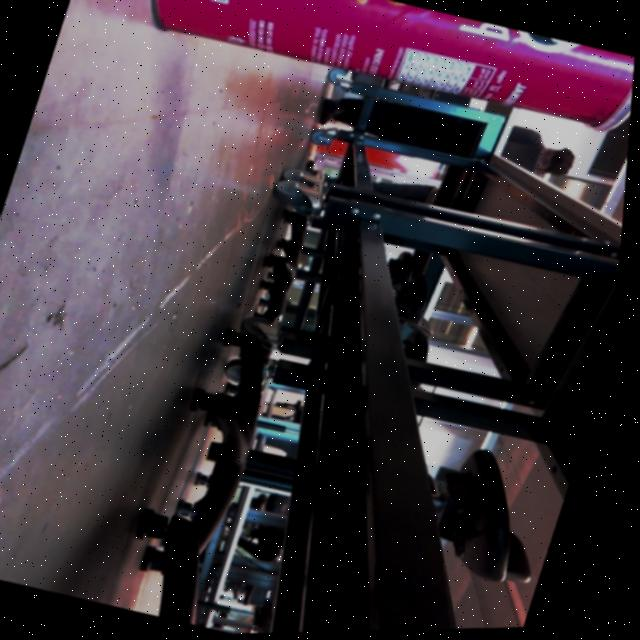redpringles: (110, 0, 640, 166)
